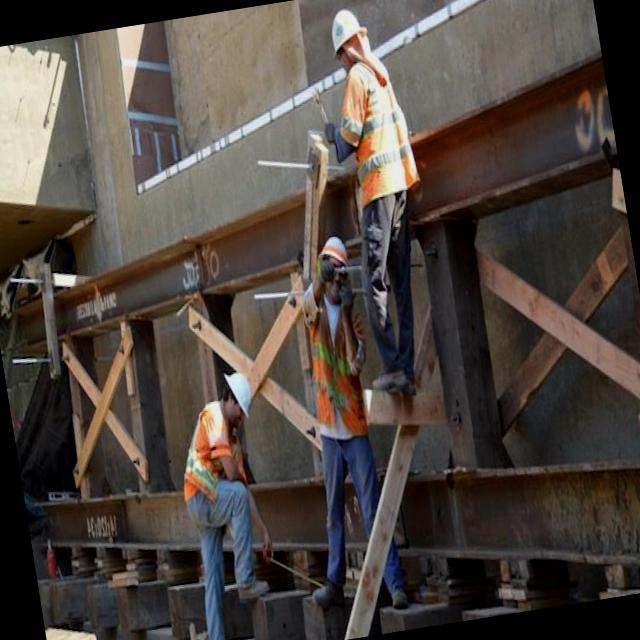helmet: (214, 362, 261, 429), (321, 4, 368, 55), (318, 230, 352, 271)
vest: (326, 52, 420, 221), (301, 288, 374, 437), (177, 404, 237, 499)
